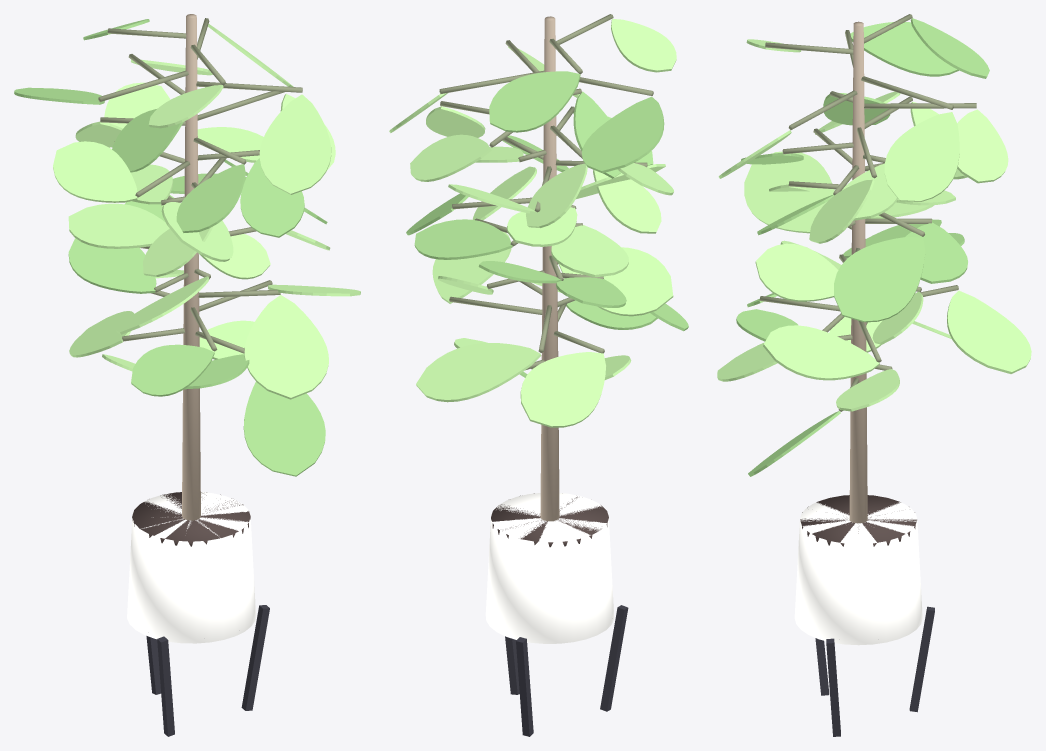
Rendered from dining_fig_tree.glb.
The picture shows the model from 3 angles, left to right: view 1: azimuth 30°, elevation 25°; view 2: azimuth 150°, elevation 25°; view 3: azimuth 270°, elevation 25°; orthographic projection.
Parts seen in each view (by area): view 1: root; view 2: root; view 3: root.
Part boxes in pixels (left/top/right/bottom): root: left=14, top=14, right=360, bottom=736; root: left=389, top=14, right=688, bottom=736; root: left=717, top=14, right=1031, bottom=736.
Size of the model in its own units: 0.9003 by 2.17 by 0.8972.
